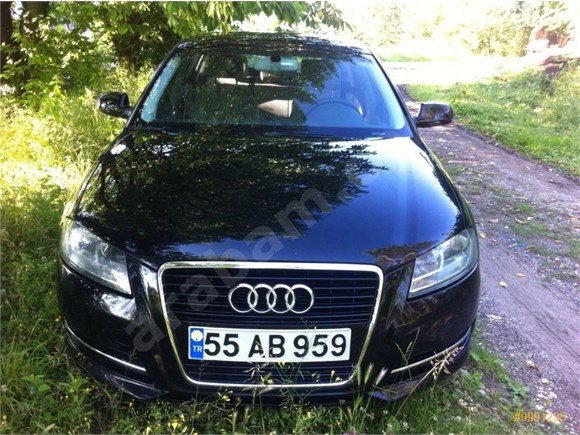audi: (220, 278, 320, 317)
